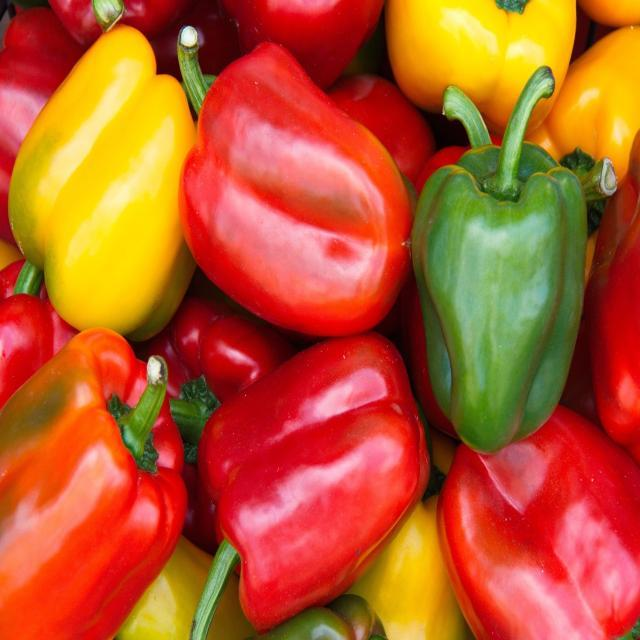bell_pepper: (168, 26, 413, 336), (194, 335, 428, 640), (416, 66, 590, 448), (10, 21, 206, 343)
